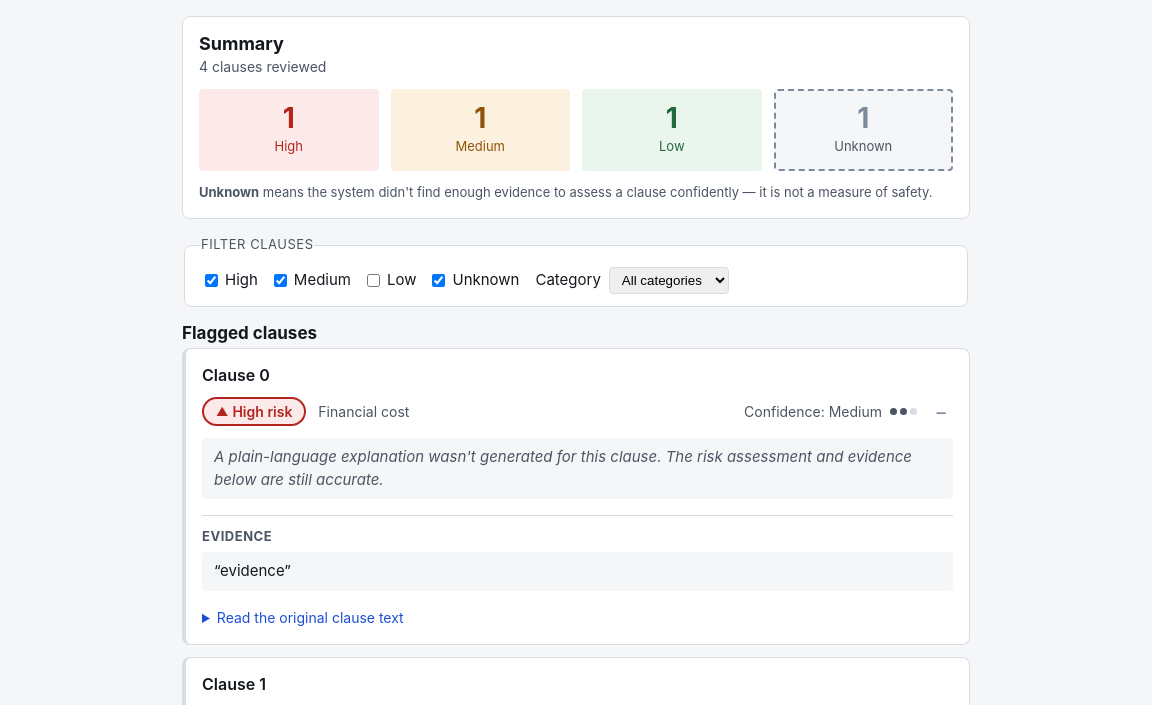
Test: ReportView › unchecking HIGH hides the flagged section's HIGH clause but keeps MEDIUM
Click the checkbox labelled "High". click: (212, 280)
box: [205,274,218,287]
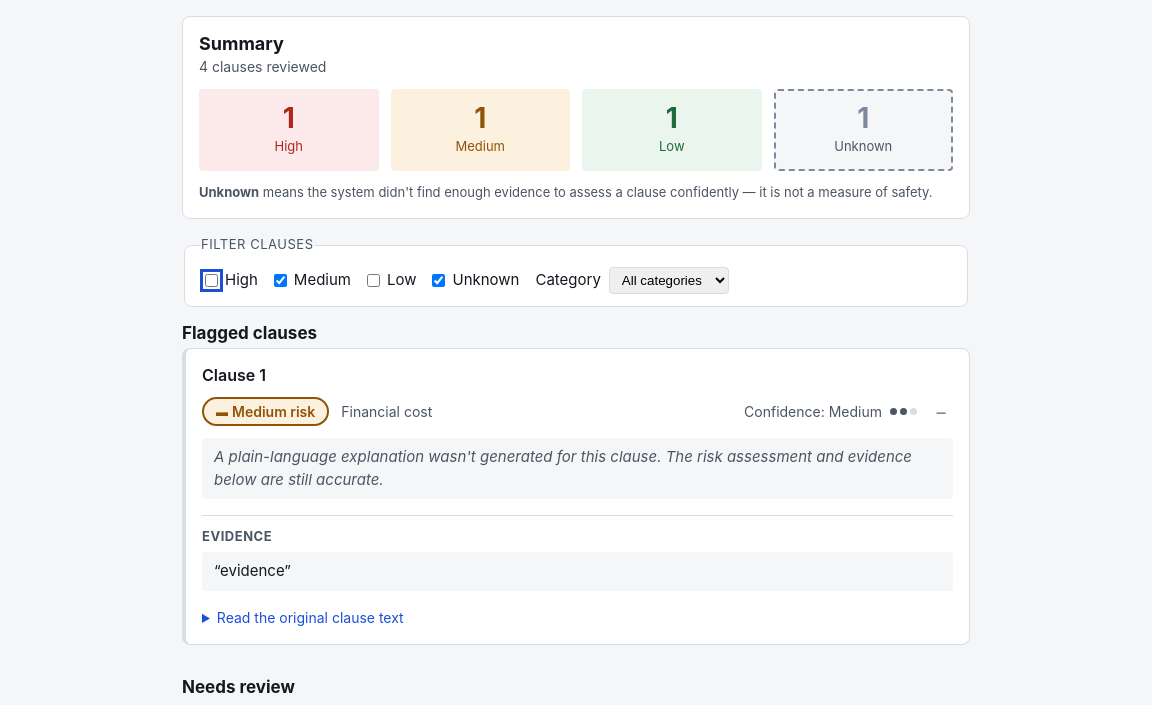
Expected: the element "Flagged clauses" shows "Medium risk", [202,397,953,426]
Expected: the element "Flagged clauses" no longer shows "High risk", [182,323,970,645]
